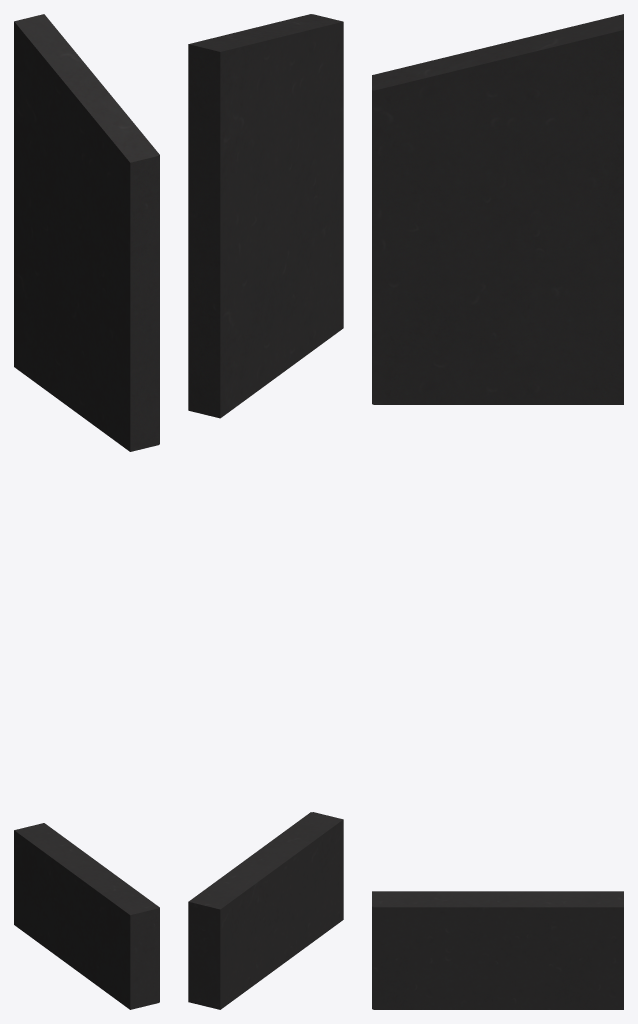
File: A13.1.1 H.WALL. PNL 1642 UP + 450 DWN E2.fbx
The picture shows the model from 3 angles, left to right: view 1: azimuth 30°, elevation 25°; view 2: azimuth 150°, elevation 25°; view 3: azimuth 270°, elevation 25°; orthographic projection. The views are drawn at different scales.
Parts seen in each view (by area): view 1: Model, Group1; view 2: Model, Group1; view 3: Model, Group1.
Part boxes in pixels (bbox=[...]): Model: bbox=[14, 14, 159, 451]; Group1: bbox=[14, 823, 159, 1009]; Model: bbox=[188, 14, 343, 418]; Group1: bbox=[188, 812, 343, 1009]; Model: bbox=[372, 14, 623, 404]; Group1: bbox=[372, 891, 623, 1009].
Size of the model in its own units: 150 by 4292 by 1000.
